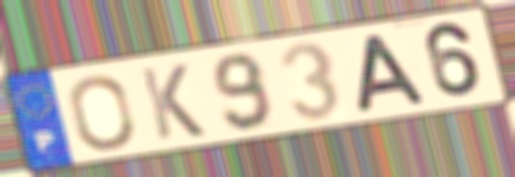3: (277, 38, 345, 125)
6: (422, 20, 484, 102)
9: (210, 50, 279, 133)
A: (355, 31, 431, 116)
K: (136, 61, 209, 143)
O: (66, 72, 139, 153)
